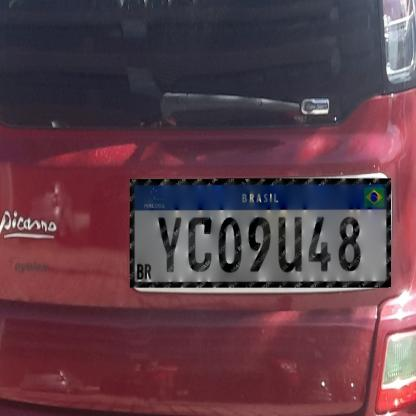PlacaM: (130, 178, 391, 288)
